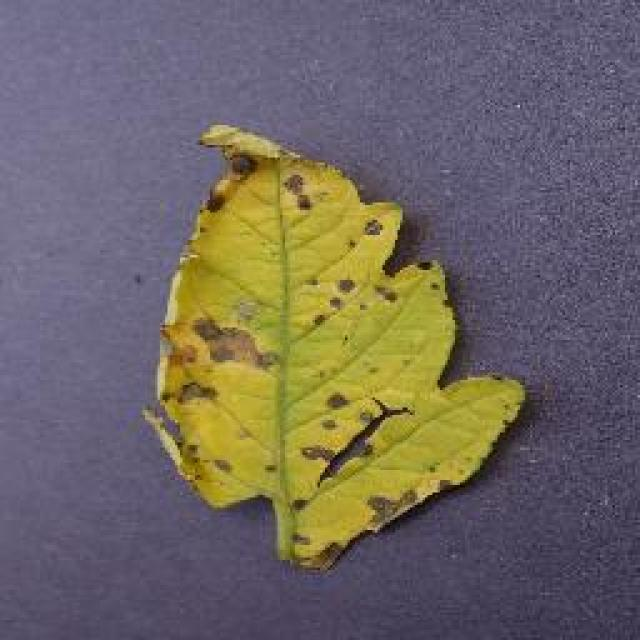Tom_Septoria_leaf_spot: (286, 386, 435, 574), (142, 295, 278, 495), (204, 124, 330, 242), (306, 202, 414, 338)
